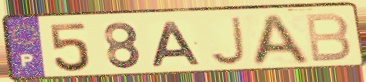5: (47, 21, 93, 74)
8: (102, 21, 142, 70)
A: (249, 12, 313, 68), (150, 20, 204, 68)
B: (302, 11, 353, 64)
J: (207, 15, 247, 67)
